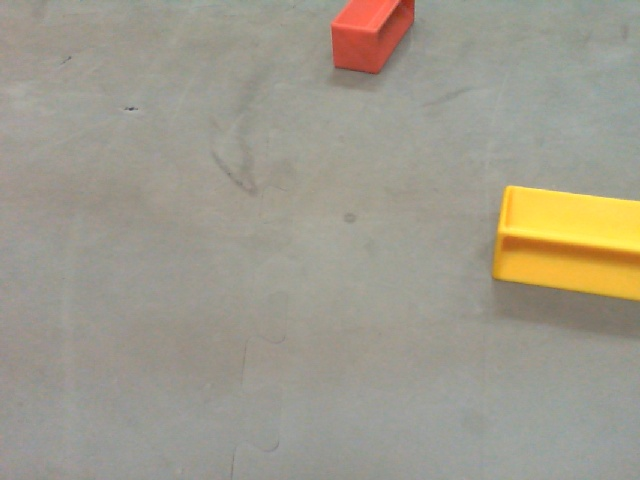RedSample: (329, 1, 416, 76)
YellowSample: (486, 185, 640, 301)
